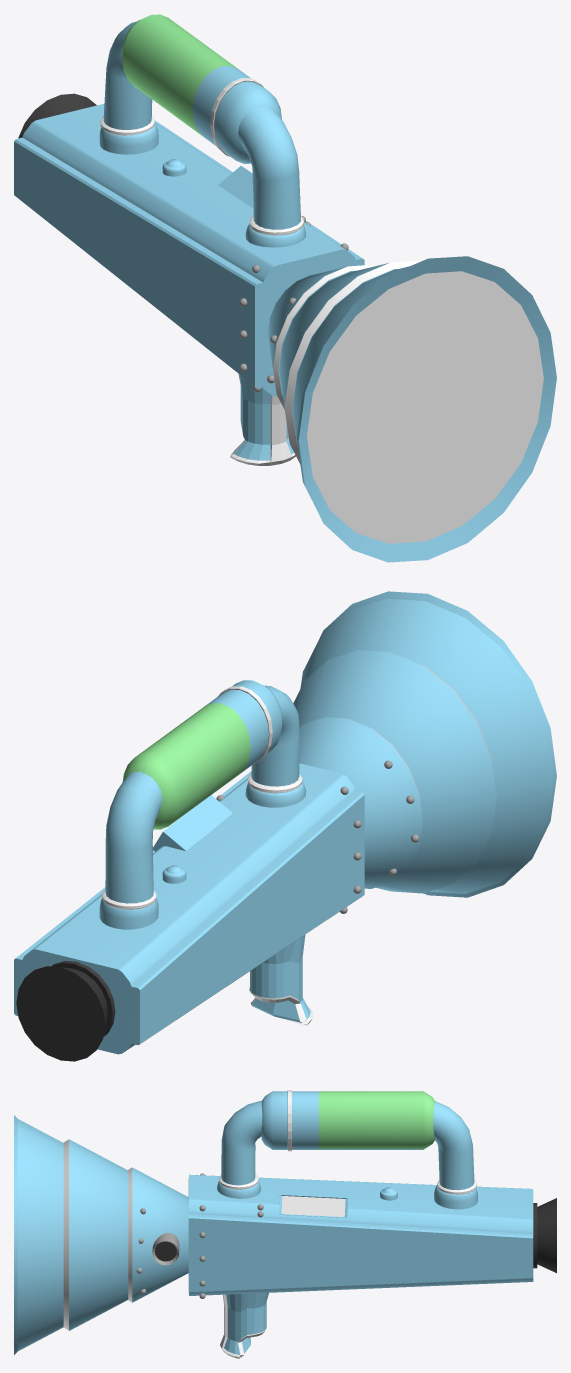
File: FBS Fart Gun.fbx
3 views of the same model, one above another, from view 1: azimuth 30°, elevation 25°; view 2: azimuth 150°, elevation 25°; view 3: azimuth 270°, elevation 25° (orthographic). The views are drawn at different scales.
Visible parts, largest first — view 1: pCone1, pCube1, pCylinder4, pTorus3, pasted__pCone1, pCylinder5, pasted__pTorus3, pasted__pasted__pCone1, pasted__pCylinder2, pCylinder3, pCube2, pasted__pasted__pCylinder2; view 2: pCube1, pCone1, pasted__pCone1, pCylinder4, pasted__pasted__pCone1, pCylinder3, pasted__pTorus3, pCylinder5, pTorus3, pCube2, pasted__pCylinder2, pasted__pasted__pCylinder2; view 3: pCube1, pasted__pCone1, pCone1, pCylinder4, pasted__pasted__pCone1, pasted__pTorus3, pTorus3, pCylinder5, pCylinder3, pCube2, pCylinder1, pasted__pCylinder2 (+1 smaller).
Part boxes in pixels (x1,y1,x2,y2): pCone1: [292, 256, 556, 562]; pCube1: [14, 104, 364, 396]; pCylinder4: [122, 14, 281, 163]; pTorus3: [238, 107, 300, 229]; pasted__pCone1: [279, 260, 422, 463]; pCylinder5: [230, 374, 295, 465]; pasted__pTorus3: [103, 21, 152, 129]; pasted__pasted__pCone1: [268, 265, 374, 409]; pasted__pCylinder2: [99, 123, 158, 154]; pCylinder3: [18, 93, 96, 138]; pCube2: [218, 166, 253, 208]; pasted__pasted__pCylinder2: [245, 224, 306, 247]; pCube1: [14, 763, 364, 1054]; pCone1: [300, 591, 556, 897]; pasted__pCone1: [293, 650, 496, 893]; pCylinder4: [122, 680, 282, 829]; pasted__pasted__pCone1: [299, 717, 422, 888]; pCylinder3: [16, 961, 115, 1061]; pasted__pTorus3: [105, 772, 162, 903]; pCylinder5: [249, 935, 313, 1026]; pTorus3: [251, 685, 299, 786]; pCube2: [153, 795, 232, 851]; pasted__pCylinder2: [99, 898, 158, 929]; pasted__pasted__pCylinder2: [245, 782, 306, 807]; pCube1: [188, 1174, 533, 1295]; pasted__pCone1: [63, 1139, 128, 1330]; pCone1: [14, 1115, 63, 1354]; pCylinder4: [261, 1090, 434, 1151]; pasted__pasted__pCone1: [128, 1167, 188, 1302]; pasted__pTorus3: [433, 1101, 474, 1190]; pTorus3: [221, 1100, 262, 1185]; pCylinder5: [220, 1293, 268, 1358]; pCylinder3: [533, 1198, 556, 1273]; pCube2: [279, 1195, 348, 1217]; pCylinder1: [152, 1233, 179, 1265]; pasted__pCylinder2: [434, 1185, 477, 1209].
Size of the model in its own units: 1.85 by 2.39 by 4.55.
